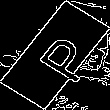P_NW: (20, 25, 90, 85)
